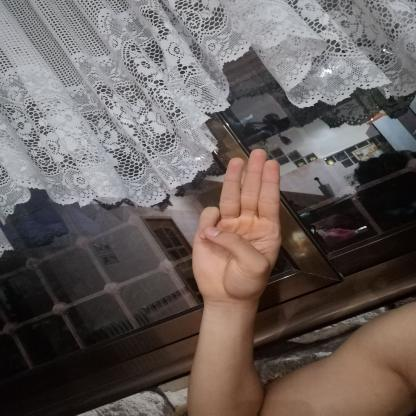THA: (184, 141, 290, 308)
